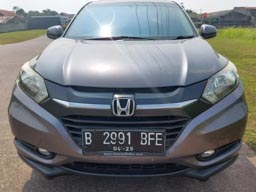plat: (81, 130, 166, 146)
